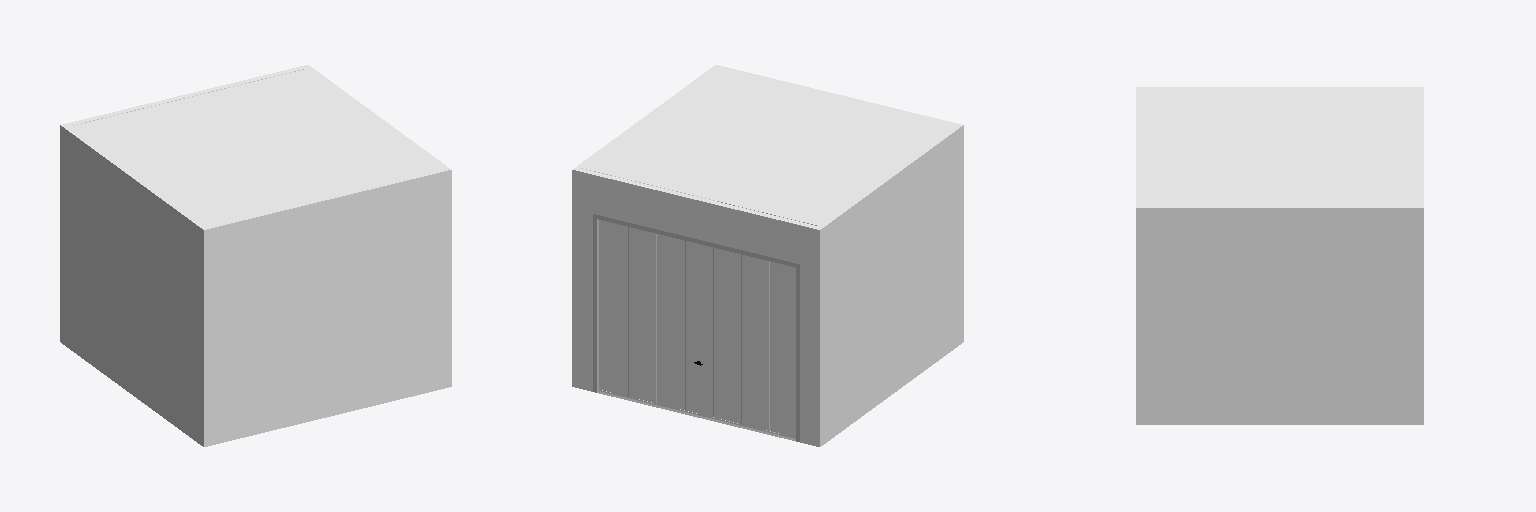
Rendered from Parqueadero.obj.
3 renders of one model, left to right at view 1: azimuth 30°, elevation 25°; view 2: azimuth 150°, elevation 25°; view 3: azimuth 270°, elevation 25°, orthographic.
Parts seen in each view (by area): view 1: wall_4_23, room_5_27, wall_1_5; view 2: Door_31, room_5_27, wall_1_5, wall_3_17, Frame_32, Grooves_30; view 3: wall_2_11, room_5_27, wall_2_13.
Boxes of the visible parts, x1=… form: wall_4_23: x1=204, y1=170, x2=451, y2=446; room_5_27: x1=70, y1=69, x2=441, y2=225; wall_1_5: x1=60, y1=125, x2=203, y2=446; Door_31: x1=599, y1=220, x2=795, y2=438; room_5_27: x1=583, y1=67, x2=952, y2=225; wall_1_5: x1=820, y1=125, x2=963, y2=446; wall_3_17: x1=572, y1=170, x2=819, y2=446; Frame_32: x1=593, y1=214, x2=799, y2=441; Grooves_30: x1=628, y1=227, x2=769, y2=430; wall_2_11: x1=1136, y1=208, x2=1423, y2=424; room_5_27: x1=1138, y1=89, x2=1415, y2=204; wall_2_13: x1=1137, y1=206, x2=1422, y2=207.
Bounding box in the file's own units: 298 × 250 × 300.